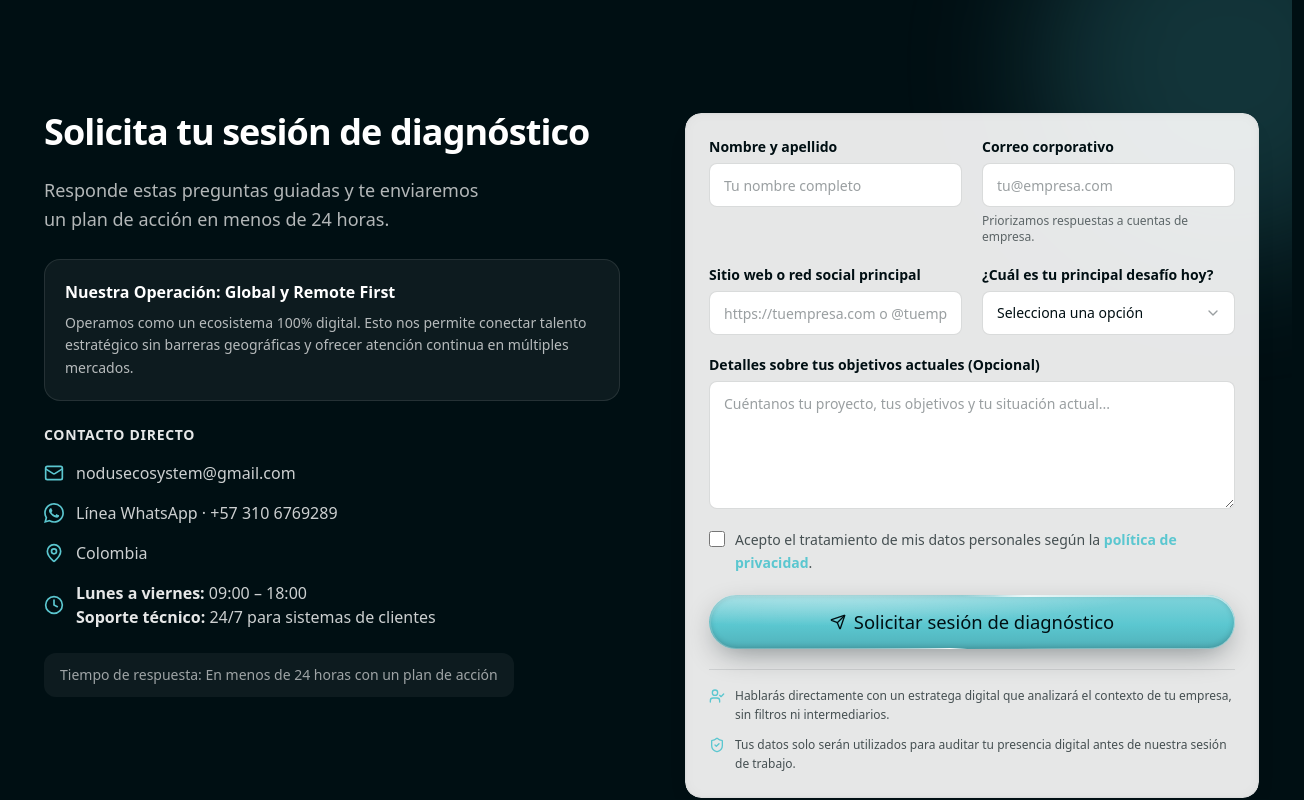
Scenario: ContactForm › requires data processing consent before submitting
The width and height of the screenshot is (1304, 800).
Type "Ana Pérez" into the field labelled "Nombre y apellido" at (836, 185), box [709,163,962,207]
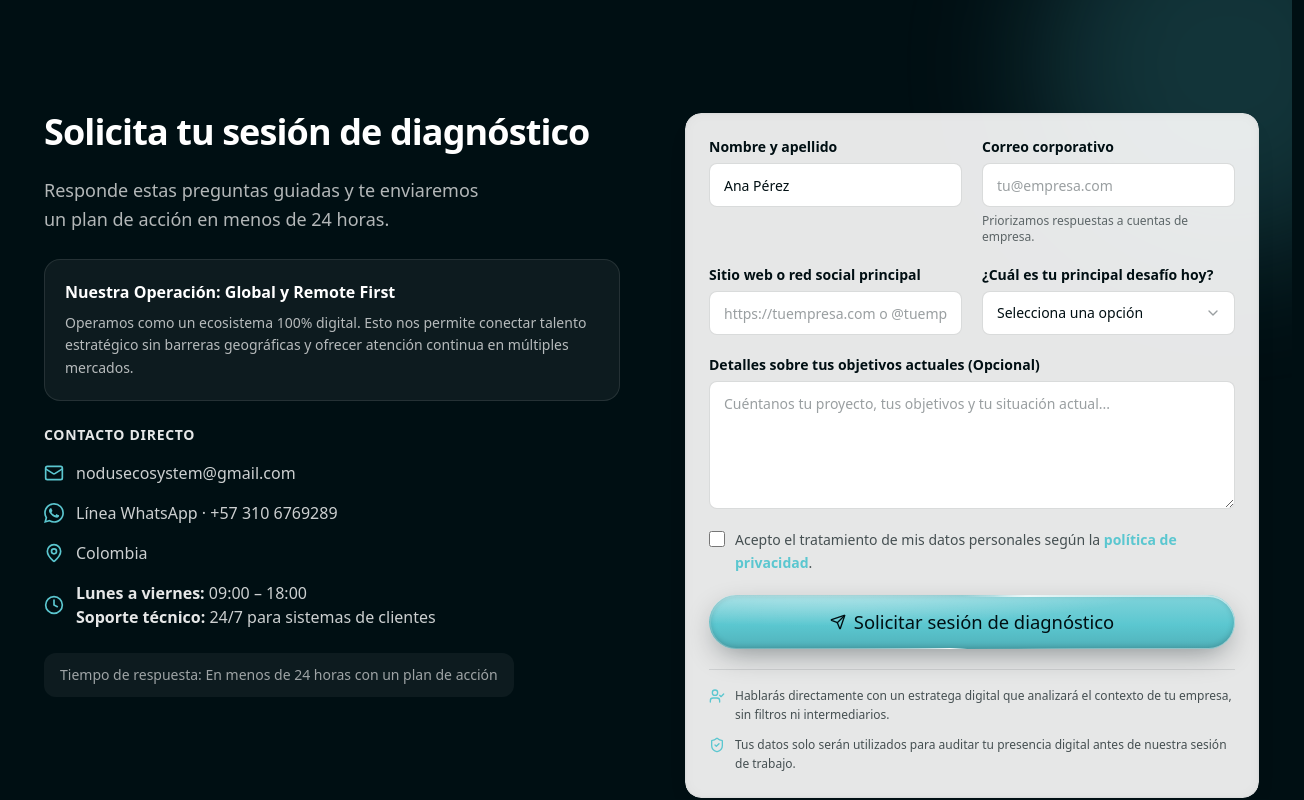
Type "ana@example.com" into the field labelled "Correo corporativo" at (1108, 185), box [982,163,1235,207]
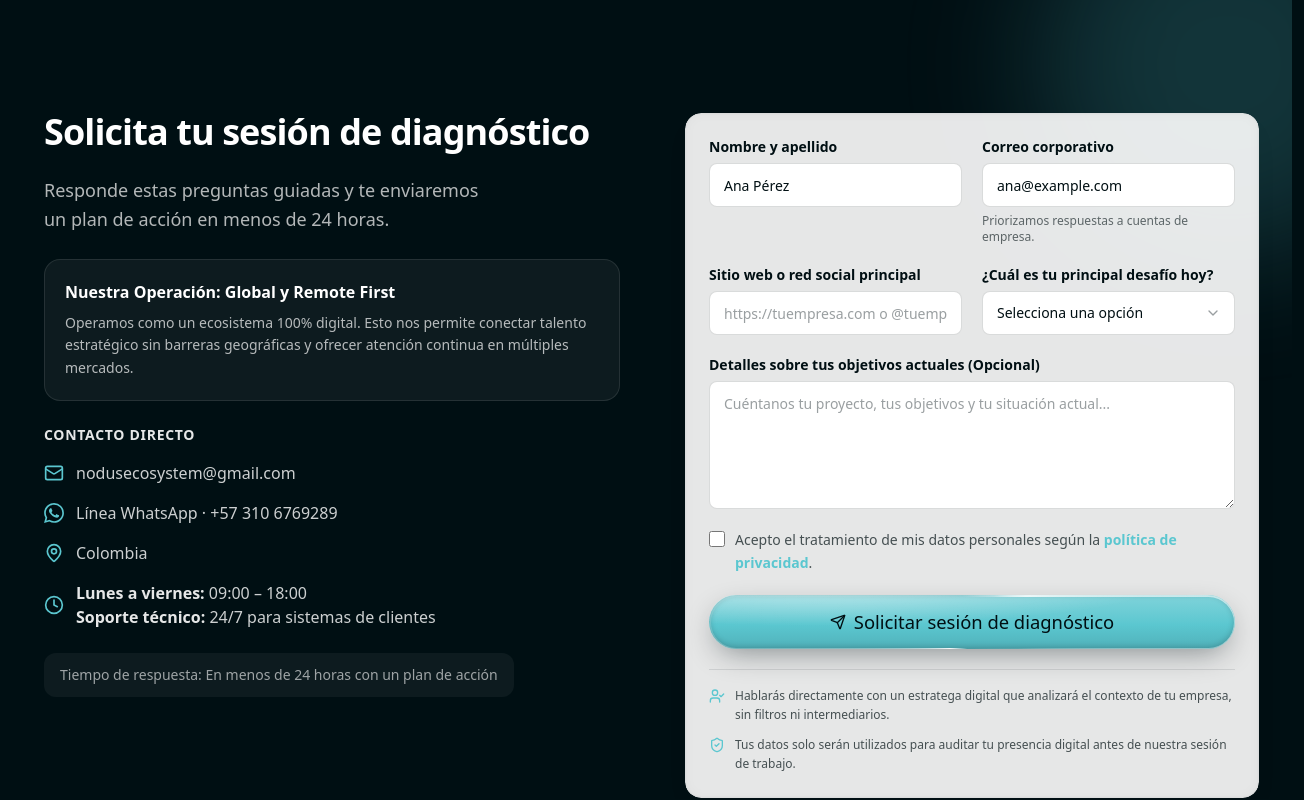
Click the button "Solicitar sesión de diagnóstico" at (972, 622), box [709,594,1235,649]
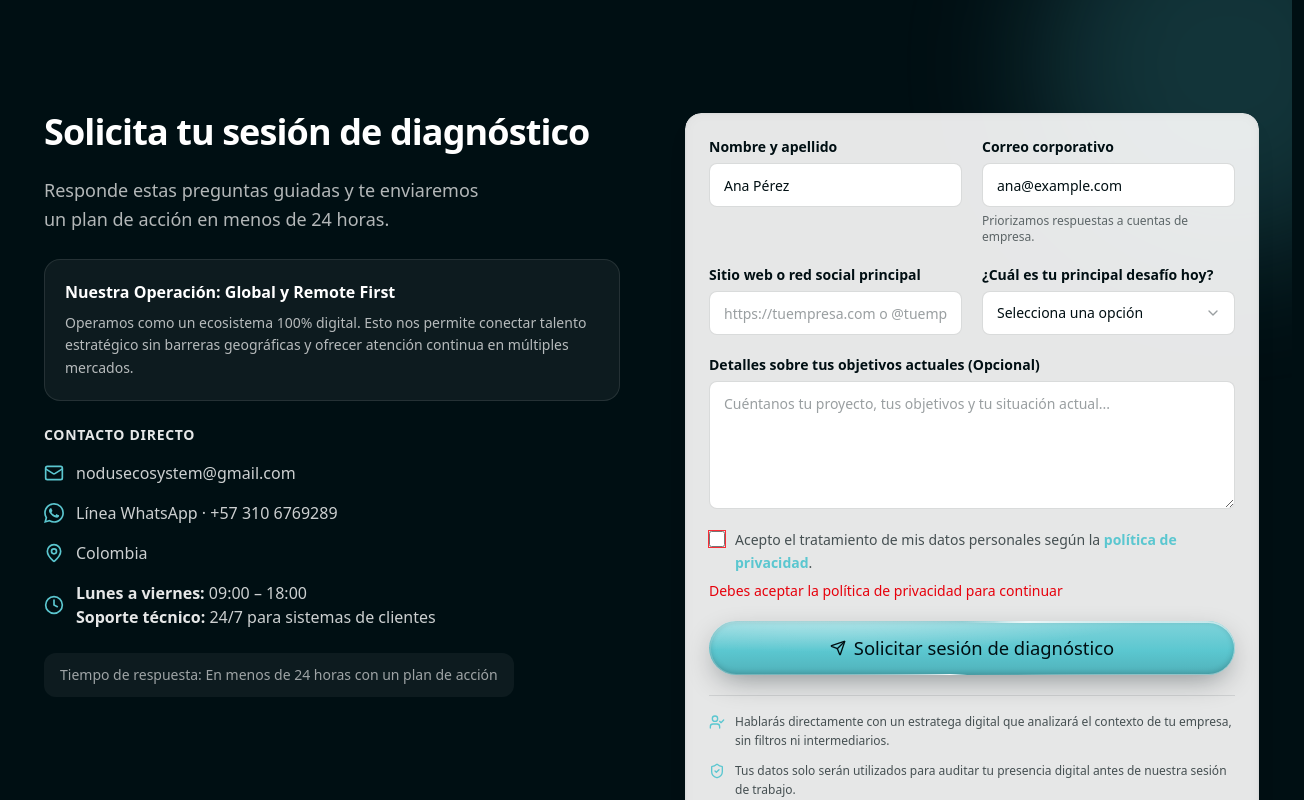
Expected: the text "Debes aceptar la política de privacidad para continuar" is shown, [709,580,1063,600]
Click the checkbox at (717, 539), box [709,531,725,547]
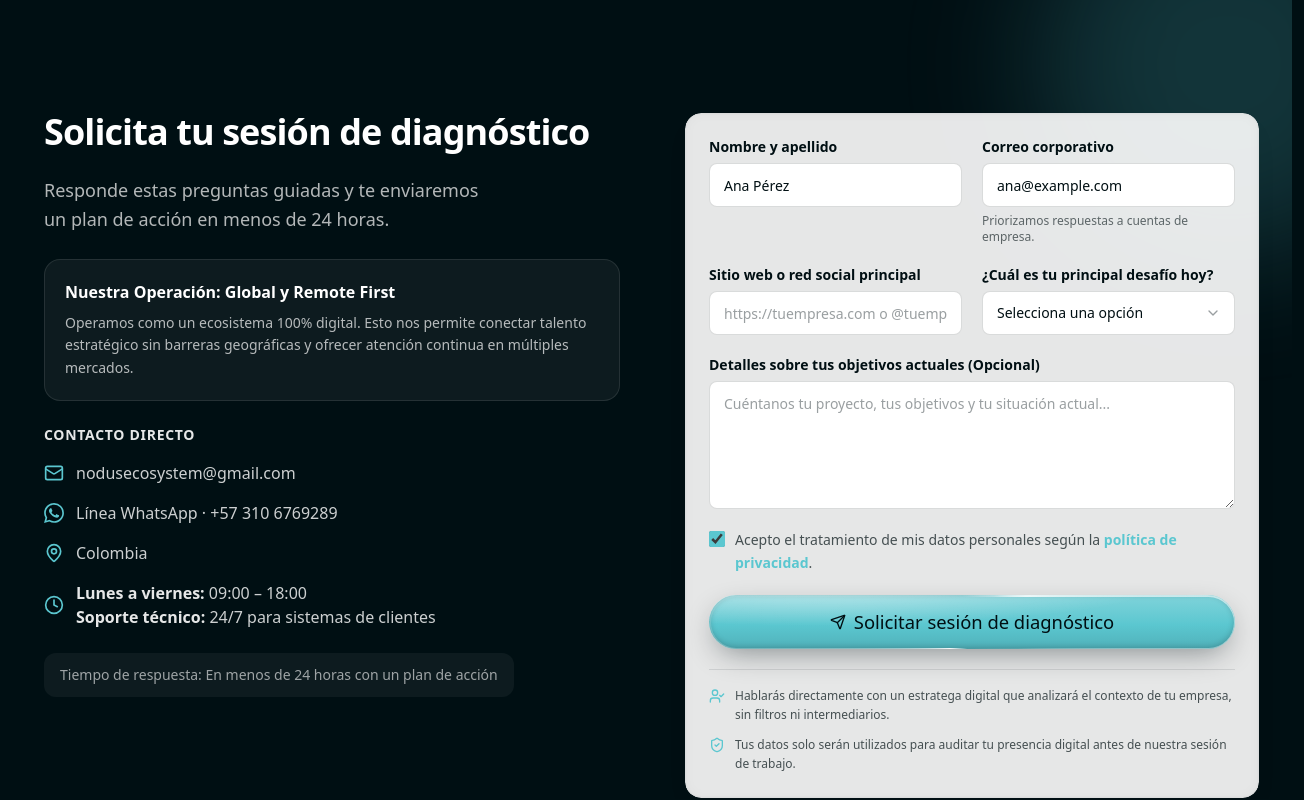
Expected: the text "Debes aceptar la política de privacidad para continuar" is gone
